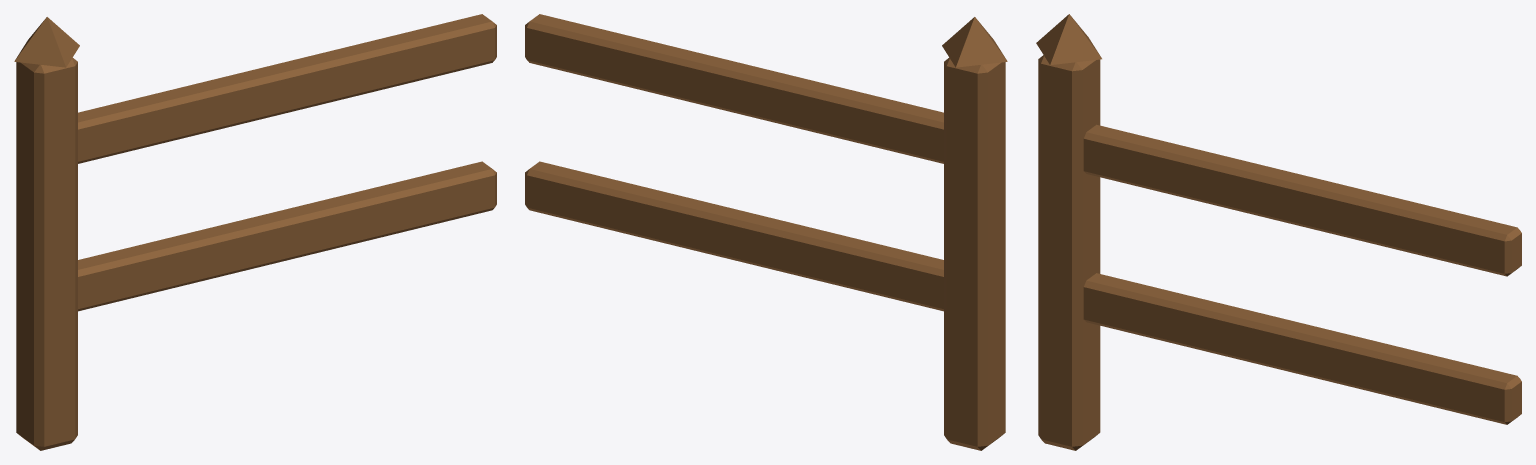
Rendered from prop_fence.glb.
The picture shows the model from 3 angles, left to right: view 1: azimuth 30°, elevation 25°; view 2: azimuth 150°, elevation 25°; view 3: azimuth 330°, elevation 25°; orthographic projection.
Parts seen in each view (by area): view 1: post, rail, rail.001, postcap; view 2: post, rail, rail.001, postcap; view 3: rail, rail.001, post, postcap.
Boxes of the visible parts, bbox=[...] form: post: bbox=[16, 57, 77, 450]; rail: bbox=[78, 161, 496, 311]; rail.001: bbox=[78, 14, 496, 163]; postcap: bbox=[14, 17, 79, 67]; post: bbox=[944, 57, 1005, 450]; rail: bbox=[525, 161, 943, 311]; rail.001: bbox=[525, 14, 943, 163]; postcap: bbox=[942, 17, 1007, 67]; rail: bbox=[1083, 273, 1521, 424]; rail.001: bbox=[1083, 124, 1521, 276]; post: bbox=[1038, 55, 1100, 450]; postcap: bbox=[1036, 14, 1101, 65].
Bounding box in the file's own units: 1.08 × 0.92 × 0.15.
